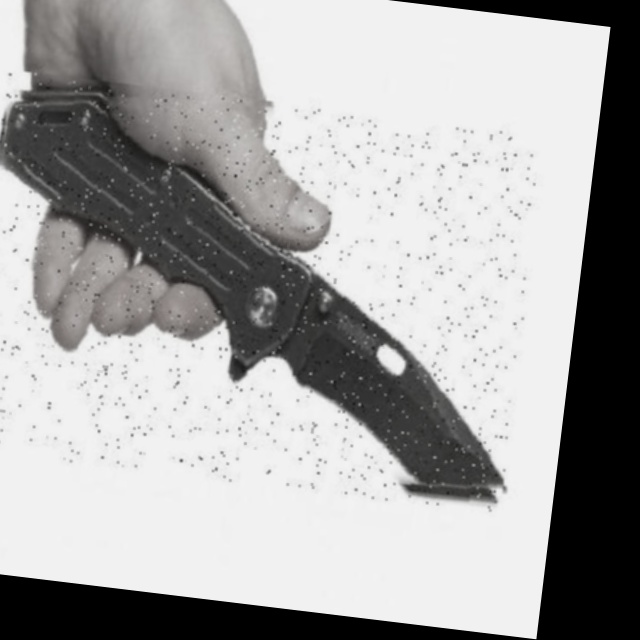Sharp-Object: (0, 70, 546, 514)
